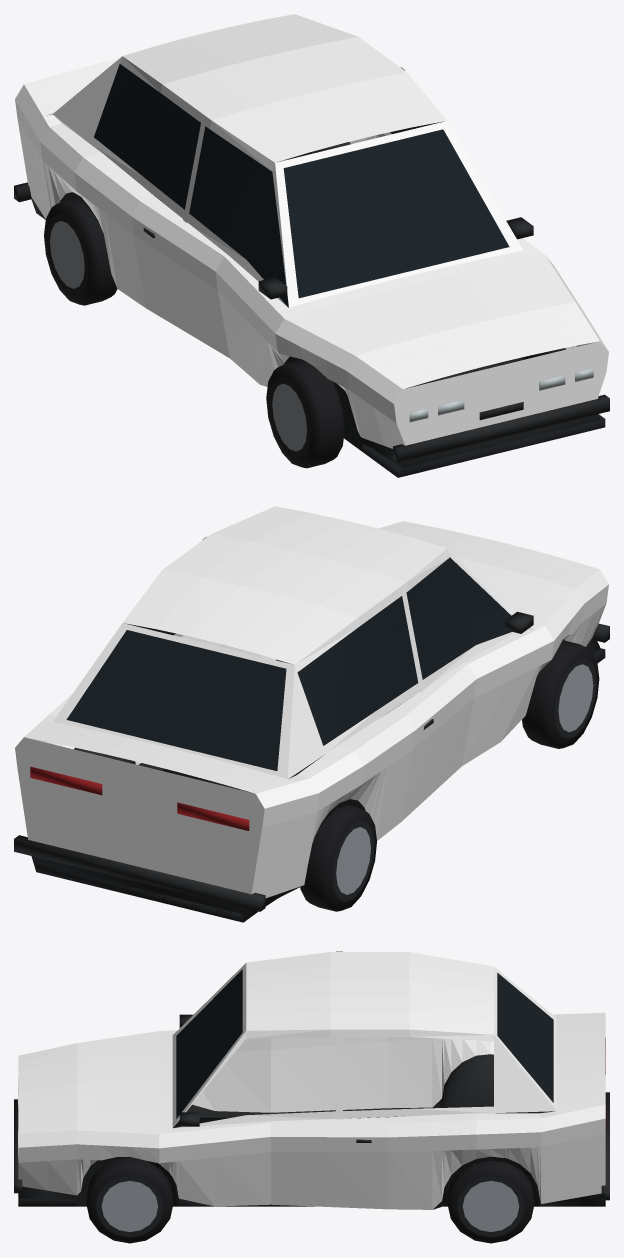
Rendered from morel_jade.glb.
3 renders of one model, top to bottom at view 1: azimuth 30°, elevation 25°; view 2: azimuth 150°, elevation 25°; view 3: azimuth 270°, elevation 25°, orthographic. The views are drawn at different scales.
Parts seen in each view (by area): view 1: Body_Paint, Body_Details, Mount_FrontLeft_Wheel_Details, Mount_RearLeft_Wheel_Details; view 2: Body_Paint, Body_Details, Mount_RearLeft_Wheel_Details, Mount_FrontLeft_Wheel_Details; view 3: Body_Paint, Body_Details, Mount_FrontRight_Wheel_Details, Mount_RearRight_Wheel_Details.
Boxes of the visible parts, box(x1,y1,x2,y2) form: Body_Paint: box(15, 14, 608, 448); Body_Details: box(14, 64, 609, 477); Mount_FrontLeft_Wheel_Details: box(266, 359, 344, 468); Mount_RearLeft_Wheel_Details: box(44, 198, 117, 305); Body_Paint: box(15, 506, 608, 898); Body_Details: box(14, 557, 609, 922); Mount_RearLeft_Wheel_Details: box(300, 805, 376, 911); Mount_FrontLeft_Wheel_Details: box(522, 640, 599, 748); Body_Paint: box(18, 951, 605, 1209); Body_Details: box(14, 969, 609, 1209); Mount_FrontRight_Wheel_Details: box(86, 1157, 173, 1243); Mount_RearRight_Wheel_Details: box(447, 1160, 534, 1243).
Size of the model in its own units: 1.78 by 1.45 by 3.89.
Materials: 2 (1 with a texture image).
